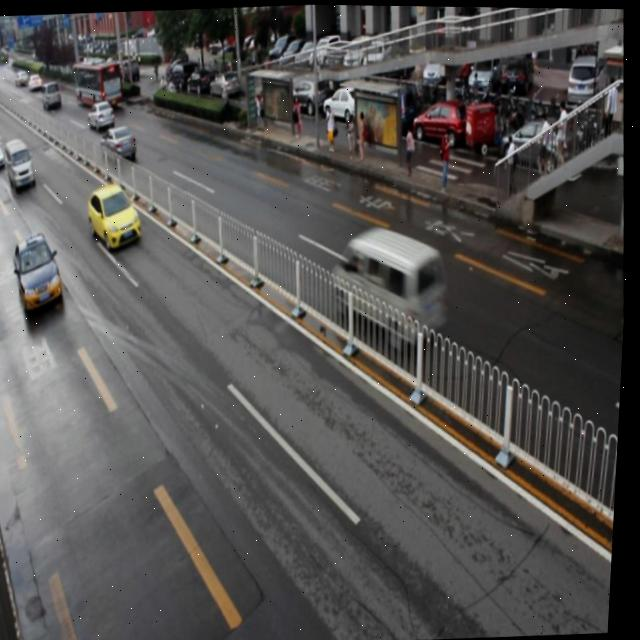car: (13, 231, 69, 311), (87, 182, 147, 251), (102, 124, 139, 162)
truck: (332, 223, 454, 351)
